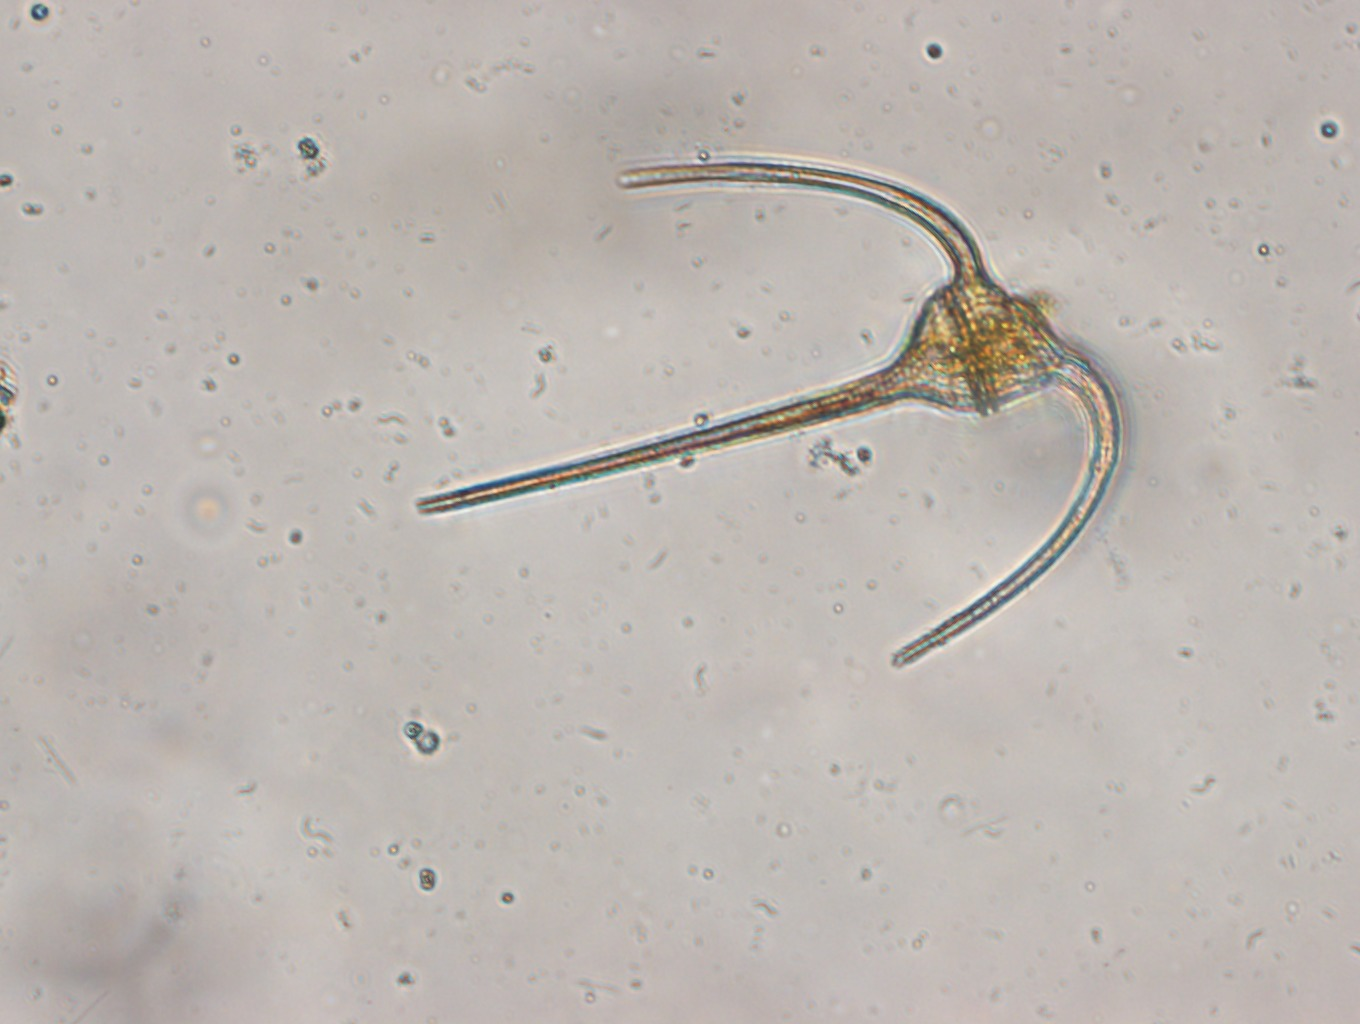ceratium trichoceros: (407, 145, 1133, 678)
